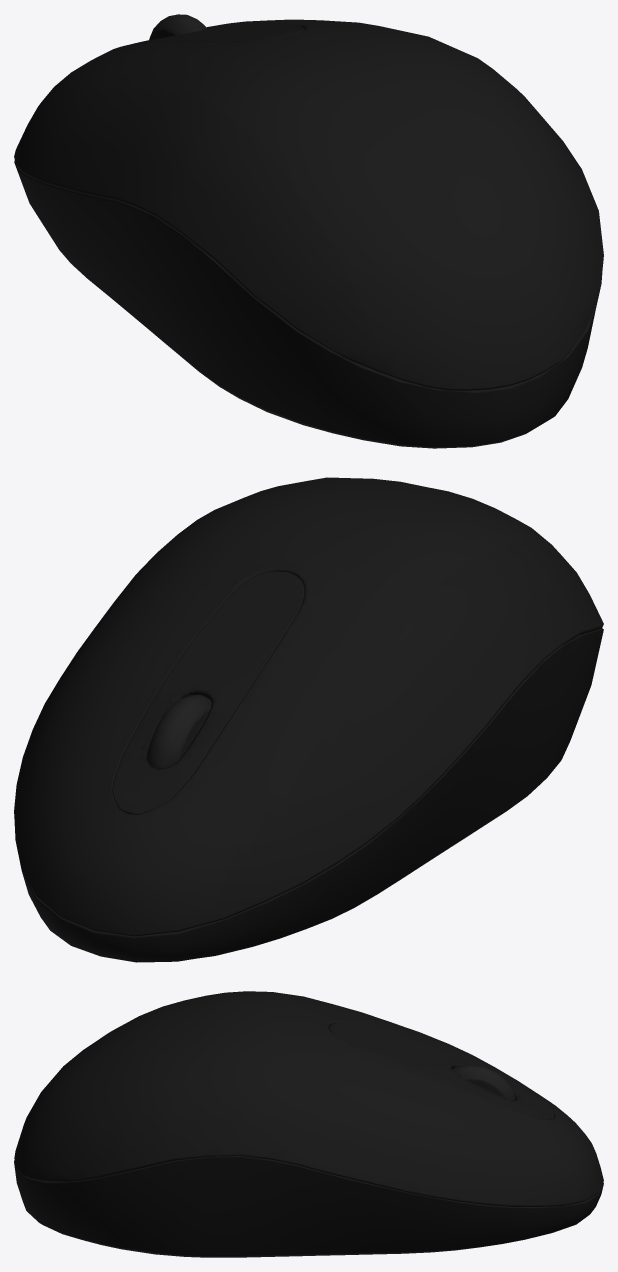
File: mouse.gltf
3 views of the same model, one above another, from view 1: azimuth 30°, elevation 25°; view 2: azimuth 150°, elevation 25°; view 3: azimuth 270°, elevation 25° (orthographic). The views are drawn at different scales.
Parts seen in each view (by area): view 1: SM_PCMouse01; view 2: SM_PCMouse01; view 3: SM_PCMouse01.
Part boxes in pixels (x1=…): SM_PCMouse01: x1=14, y1=14, x2=603, y2=448; SM_PCMouse01: x1=14, y1=477, x2=603, y2=962; SM_PCMouse01: x1=14, y1=991, x2=603, y2=1257.
Size of the model in its own units: 0.0452 by 0.0293 by 0.0825.
Materials: 1 (1 with a texture image).
